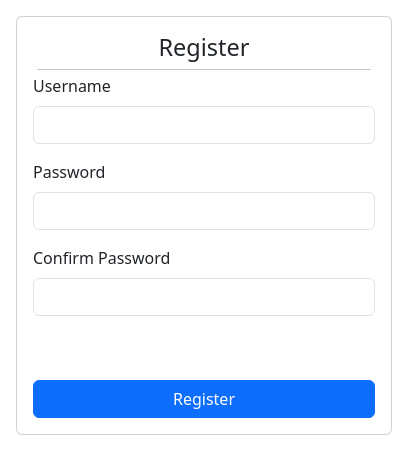
Test: Register Component › handles empty password
The image size is (409, 452).
(page scrolled)
Type "testuser" into the field labelled "Username" at [204, 125], box [33, 106, 375, 144]
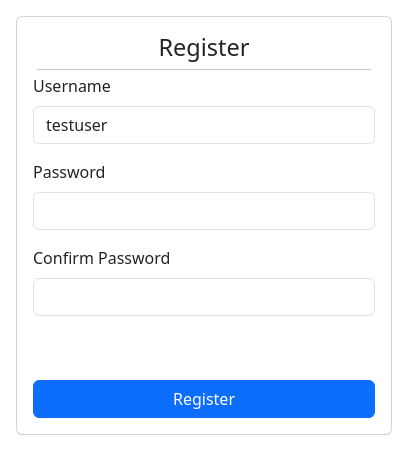
Click the button "Register" at [204, 399], box [33, 380, 375, 418]
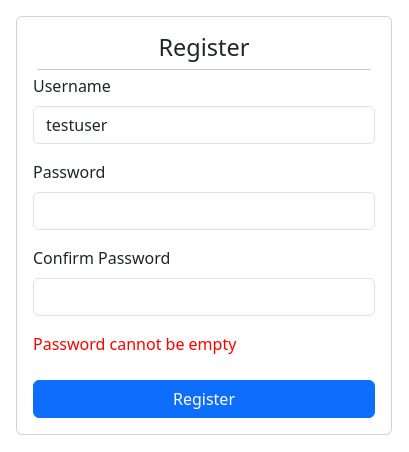
Expected: the text "Password cannot be empty" is shown, [33, 333, 236, 355]
